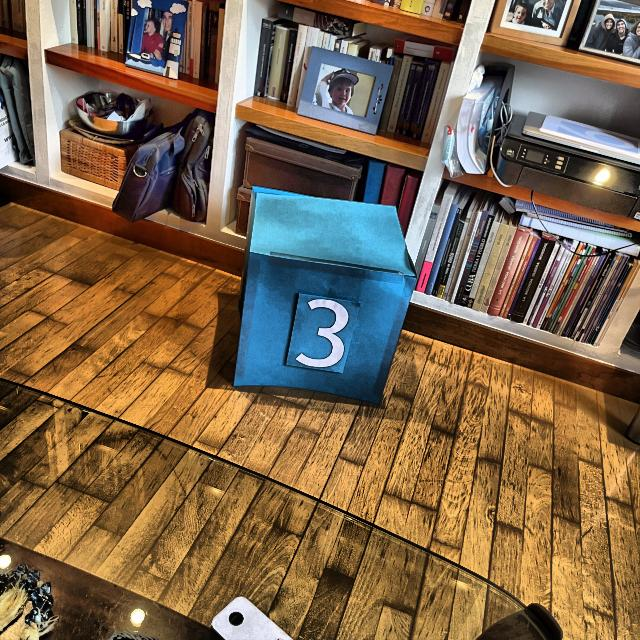blue box: (230, 182, 419, 408)
three: (294, 294, 350, 371)
